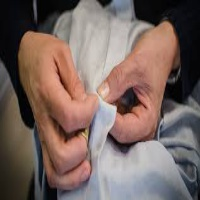ring: (50, 169, 108, 192)
